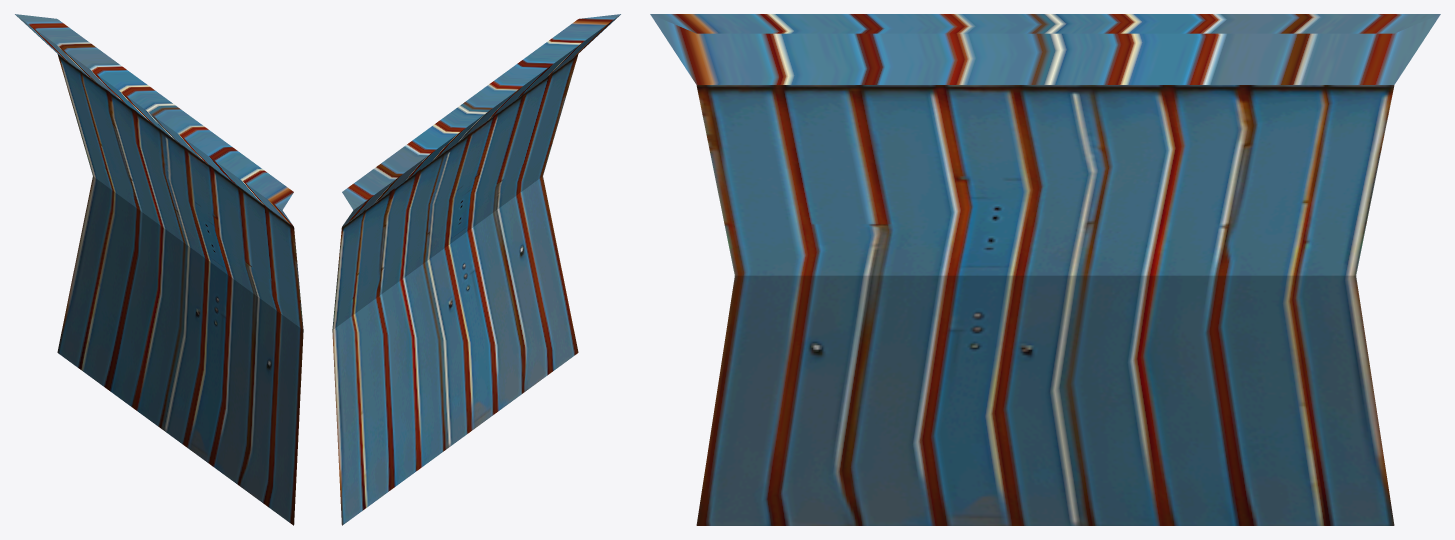
Rendered from W_A1_xx [BlauesBlech]_1731.glb.
The picture shows the model from 3 angles, left to right: view 1: azimuth 30°, elevation 25°; view 2: azimuth 150°, elevation 25°; view 3: azimuth 270°, elevation 25°; orthographic projection. The views are drawn at different scales.
Parts seen in each view (by area): view 1: pPlaneShape1, polySurfaceShape1065; view 2: pPlaneShape1, polySurfaceShape1065; view 3: pPlaneShape1, polySurfaceShape1065.
Boxes of the visible parts, left/top/right/bottom form: pPlaneShape1: left=57, top=54, right=303, bottom=525; polySurfaceShape1065: left=15, top=14, right=293, bottom=226; pPlaneShape1: left=332, top=54, right=578, bottom=525; polySurfaceShape1065: left=342, top=14, right=620, bottom=226; pPlaneShape1: left=696, top=85, right=1394, bottom=525; polySurfaceShape1065: left=650, top=14, right=1440, bottom=84.
Size of the model in its own units: 0.0607 by 0.3891 by 0.5666.
Materials: 2 (2 with a texture image).
